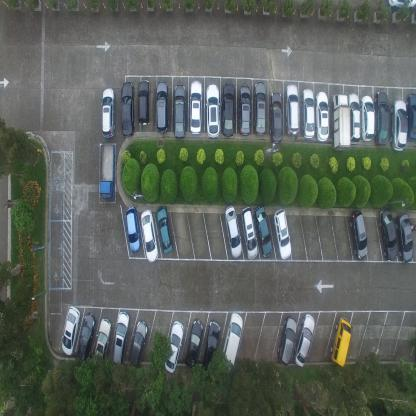car: (219, 312, 243, 372), (293, 313, 315, 368), (329, 315, 352, 367), (332, 90, 350, 152), (201, 320, 220, 378), (164, 318, 184, 372), (253, 203, 273, 256), (275, 316, 296, 366), (98, 142, 115, 202), (183, 316, 203, 367), (240, 205, 258, 261), (223, 205, 241, 261), (127, 318, 148, 366), (112, 309, 130, 365), (92, 317, 111, 370), (379, 206, 398, 259), (140, 208, 158, 263), (61, 304, 80, 355), (349, 209, 368, 259), (77, 309, 95, 361), (273, 207, 291, 259), (396, 211, 414, 262), (284, 81, 300, 136), (204, 83, 220, 138), (374, 88, 389, 146), (391, 98, 407, 152), (120, 79, 134, 138), (221, 80, 235, 138), (172, 82, 186, 140), (188, 79, 202, 135), (315, 89, 330, 141), (101, 86, 116, 138), (156, 206, 172, 254), (124, 206, 140, 254), (154, 80, 168, 134), (359, 93, 375, 140), (253, 80, 266, 137), (302, 86, 315, 139), (348, 89, 360, 144), (270, 90, 282, 145), (137, 78, 150, 127), (239, 84, 250, 137), (406, 92, 416, 143), (387, 0, 416, 9)
